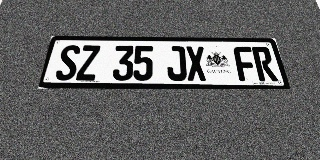3: (112, 46, 134, 81)
5: (133, 46, 153, 81)
F: (233, 47, 259, 81)
J: (166, 46, 187, 81)
R: (251, 47, 278, 81)
S: (54, 45, 81, 81)
X: (185, 46, 207, 81)
Z: (76, 45, 100, 81)
